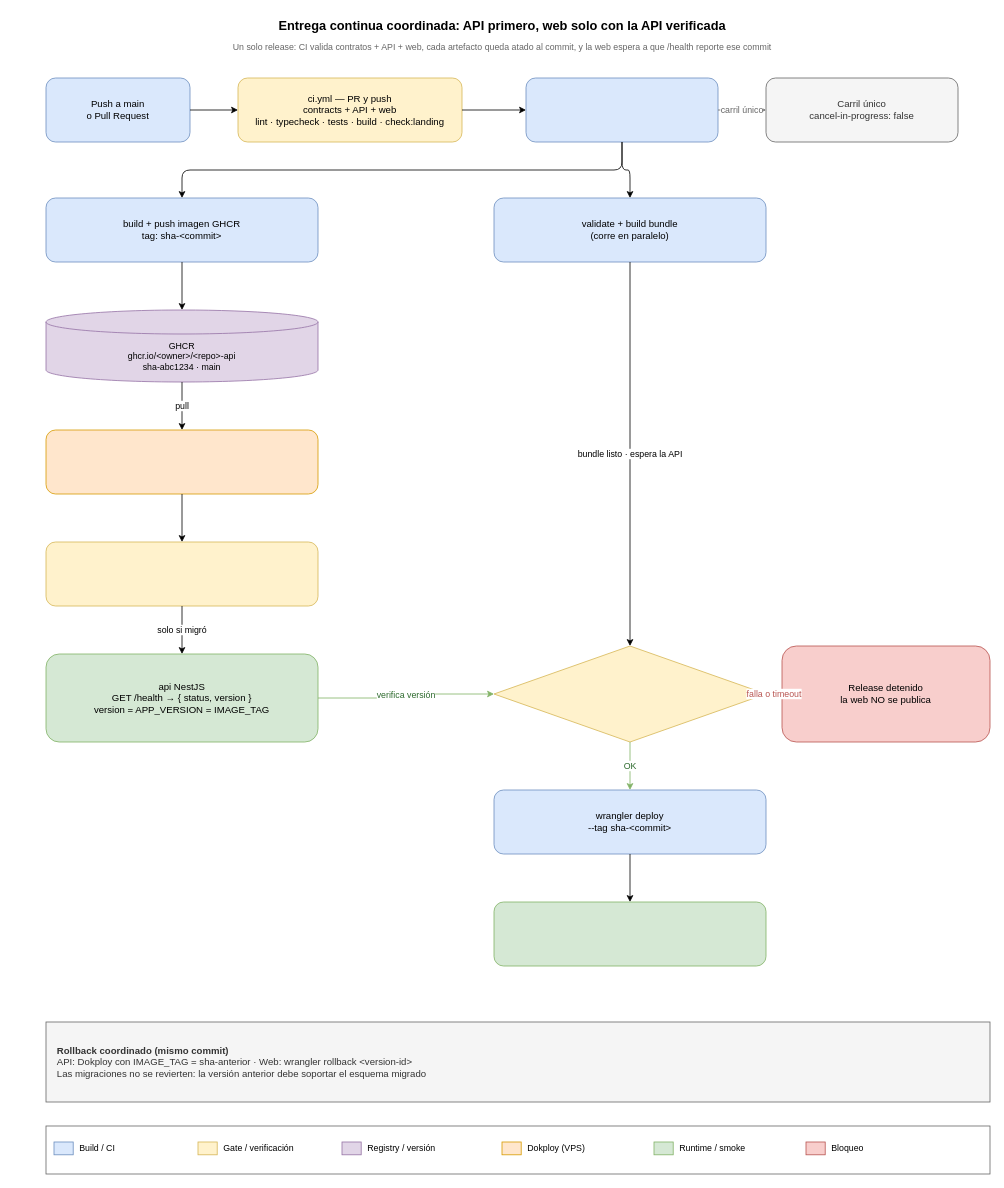
Image size: 1004x1188. Some labels were removed from this diagram. The shapes that lost their labels are listed below. From the top down, each one's centre as x and y in pixels, then its label:
At (x=621, y=109): "deploy.yml — job changes git diff: web / api / contracts + shared".
At (x=181, y=461): "Dokploy (VPS) descarga la imagen sin docker build".
At (x=181, y=573): "migrate (one-shot) mismo tag de imagen".
At (x=629, y=693): "¿/health == sha-<commit>?".
At (x=629, y=933): "smoke prod https://psicologarayen.cl 200 + contenido clave".
